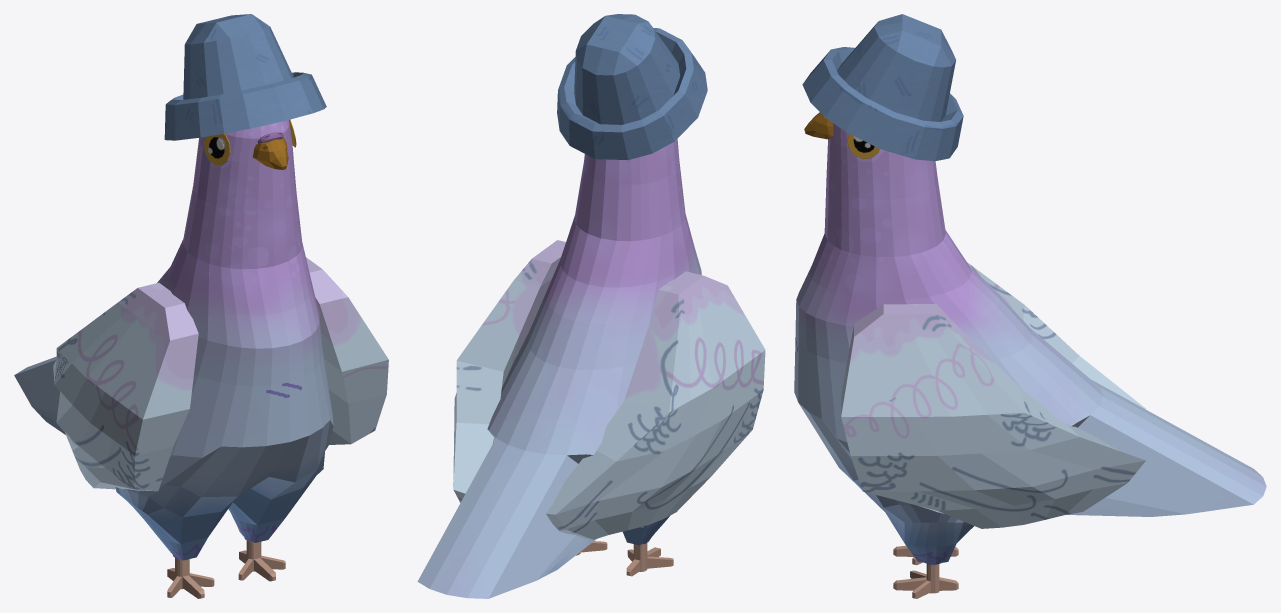
Rendered from RobertEstatico.glb.
3 renders of one model, left to right at view 1: azimuth 30°, elevation 25°; view 2: azimuth 150°, elevation 25°; view 3: azimuth 270°, elevation 25°, orthographic. The views are drawn at different scales.
Parts seen in each view (by area): view 1: cuerpo.003, Cube.003, gorrito.001, pico.003, ojospararos.003; view 2: cuerpo.003, Cube.003, gorrito.001; view 3: cuerpo.003, Cube.003, gorrito.001.
Part boxes in pixels (x1,y1,x2,y2): cuerpo.003: (14,120,333,598); Cube.003: (53,257,388,491); gorrito.001: (164,14,326,140); pico.003: (252,137,288,169); ojospararos.003: (204,119,296,165); cuerpo.003: (417,139,701,598); Cube.003: (453,240,765,539); gorrito.001: (557,14,707,160); cuerpo.003: (794,123,1266,598); Cube.003: (841,262,1145,528); gorrito.001: (802,14,963,161).
Bounding box in the file's own units: 1.31 × 2.83 × 2.2.
6 materials, 6 textured.
